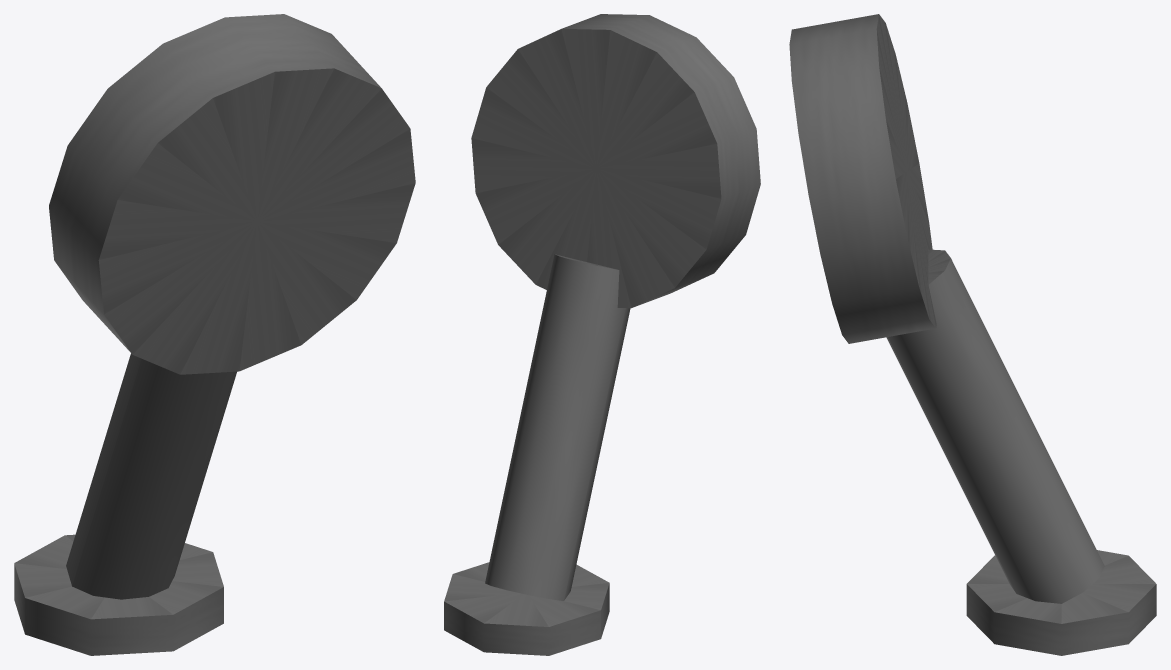
File: mastarmcurve_10x2_c6_down.obj
The picture shows the model from 3 angles, left to right: view 1: azimuth 30°, elevation 25°; view 2: azimuth 150°, elevation 25°; view 3: azimuth 270°, elevation 25°; orthographic projection. The views are drawn at different scales.
Visible parts, largest first — view 1: mastarm_10x2_c6_down; view 2: mastarm_10x2_c6_down; view 3: mastarm_10x2_c6_down.
Boxes of the visible parts, box(x1,y1,x2,y2) form: mastarm_10x2_c6_down: box(14, 14, 415, 655); mastarm_10x2_c6_down: box(444, 14, 760, 655); mastarm_10x2_c6_down: box(789, 14, 1156, 655).
Bounding box in the file's own units: 0.674 × 1.36 × 0.7737.
